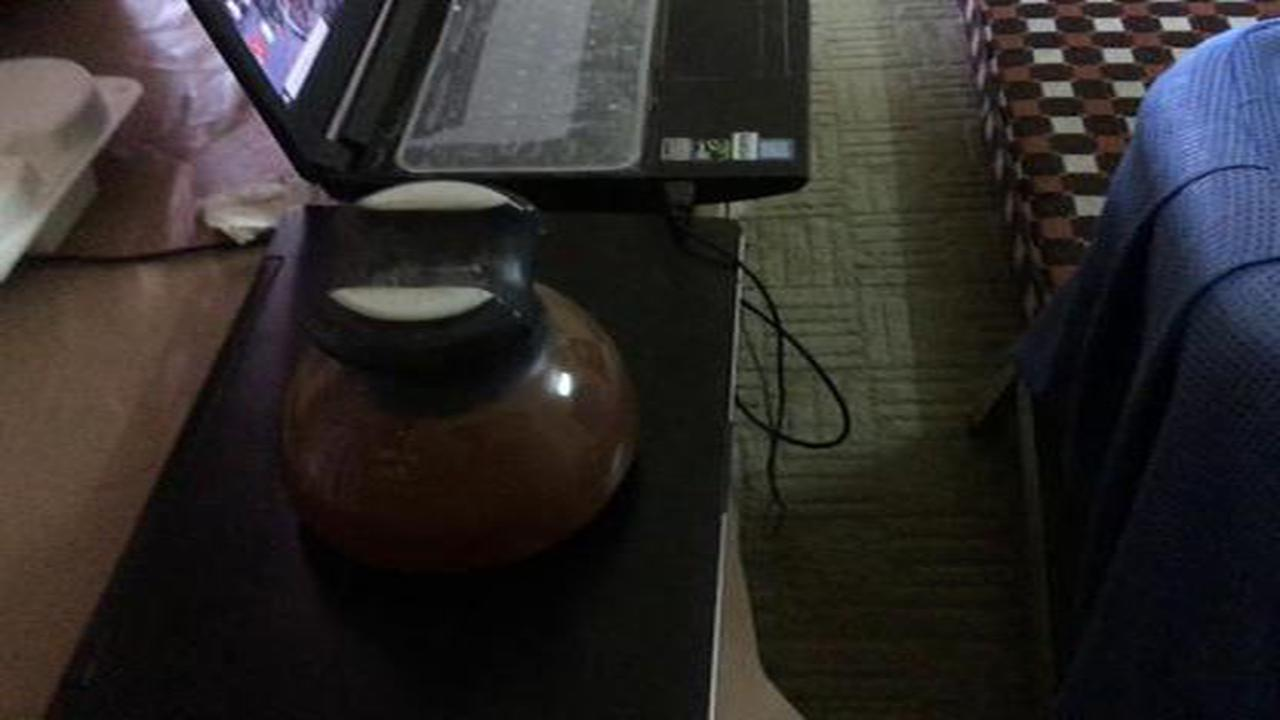insulator_pin: (253, 167, 668, 611)
